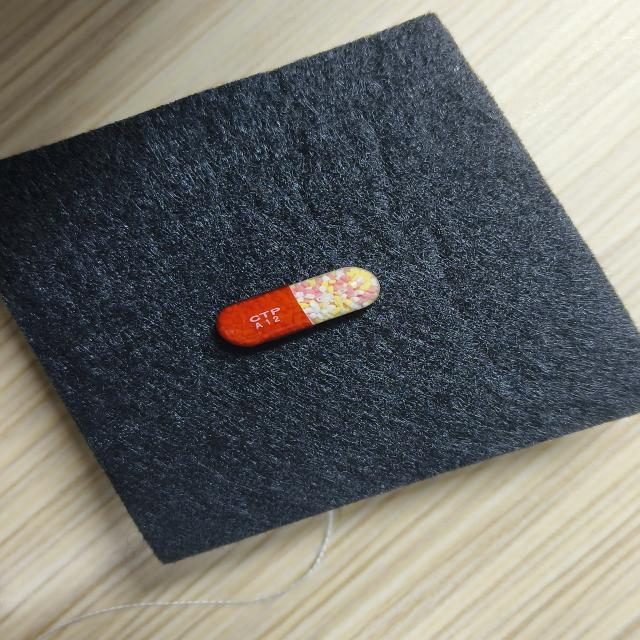Intact Capsule: (217, 267, 380, 347)
